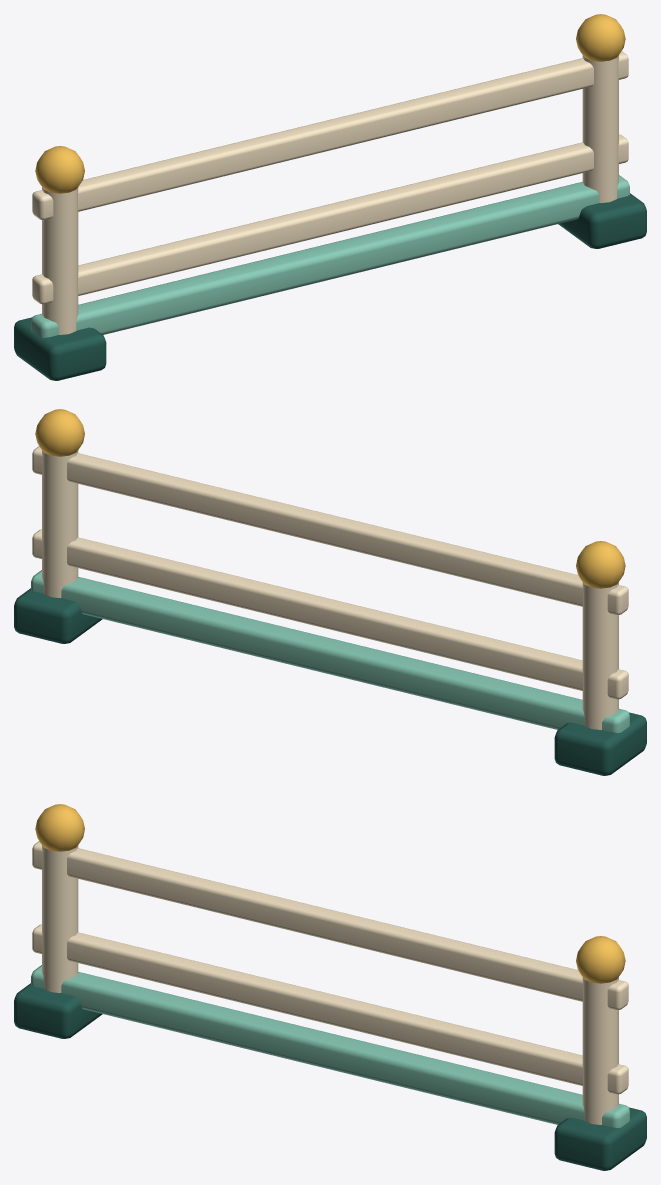
File: athlete_rail_straight.glb
The picture shows the model from 3 angles, top to bottom: view 1: azimuth 30°, elevation 25°; view 2: azimuth 150°, elevation 25°; view 3: azimuth 330°, elevation 25°; orthographic projection.
Visible parts, largest first — view 1: athlete_rail_straight__cream, athlete_rail_straight__mint, athlete_rail_straight__ink, athlete_rail_straight__gold; view 2: athlete_rail_straight__cream, athlete_rail_straight__mint, athlete_rail_straight__ink, athlete_rail_straight__gold; view 3: athlete_rail_straight__cream, athlete_rail_straight__mint, athlete_rail_straight__ink, athlete_rail_straight__gold.
Boxes of the visible parts, x1,y1,x2,y2 form: athlete_rail_straight__cream: (32, 51, 628, 334); athlete_rail_straight__mint: (31, 175, 629, 337); athlete_rail_straight__ink: (14, 193, 646, 380); athlete_rail_straight__gold: (35, 14, 625, 193); athlete_rail_straight__cream: (32, 446, 628, 729); athlete_rail_straight__mint: (31, 570, 629, 732); athlete_rail_straight__ink: (14, 588, 646, 775); athlete_rail_straight__gold: (35, 409, 625, 588); athlete_rail_straight__cream: (32, 841, 628, 1124); athlete_rail_straight__mint: (31, 965, 629, 1127); athlete_rail_straight__ink: (14, 983, 646, 1170); athlete_rail_straight__gold: (35, 804, 625, 983).
Bounding box in the file's own units: 2.08 × 0.715 × 0.25.
